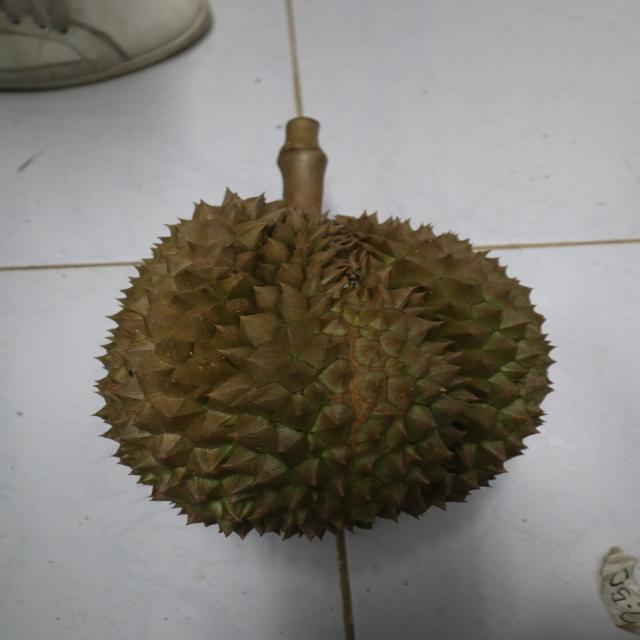mature: (85, 185, 560, 546)
